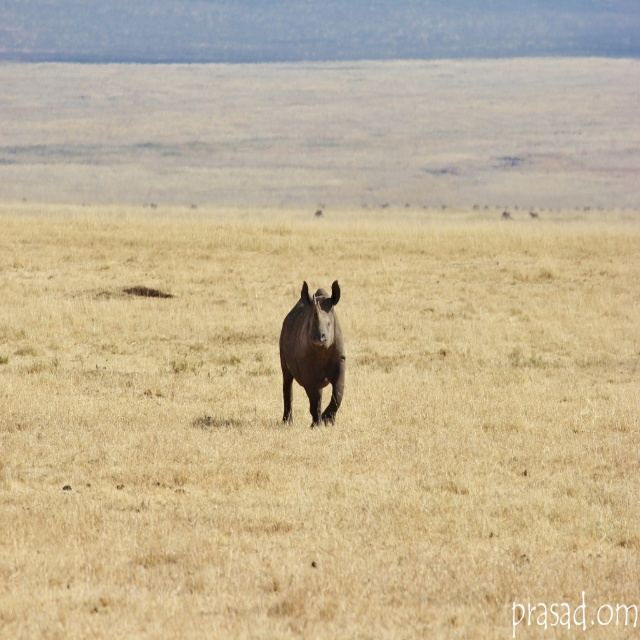Rhinoceros: (276, 275, 346, 433)
